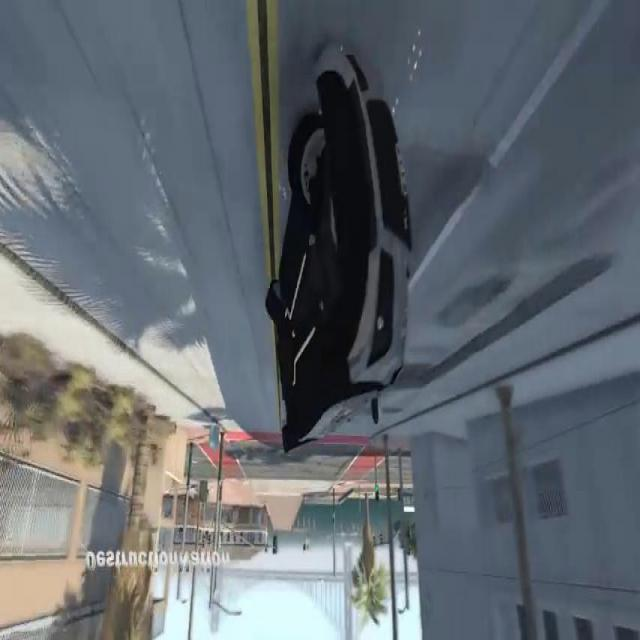severe: (264, 36, 416, 470)
